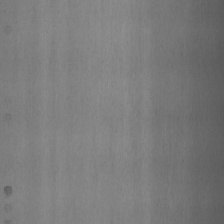oil_spot: (3, 183, 13, 203)
